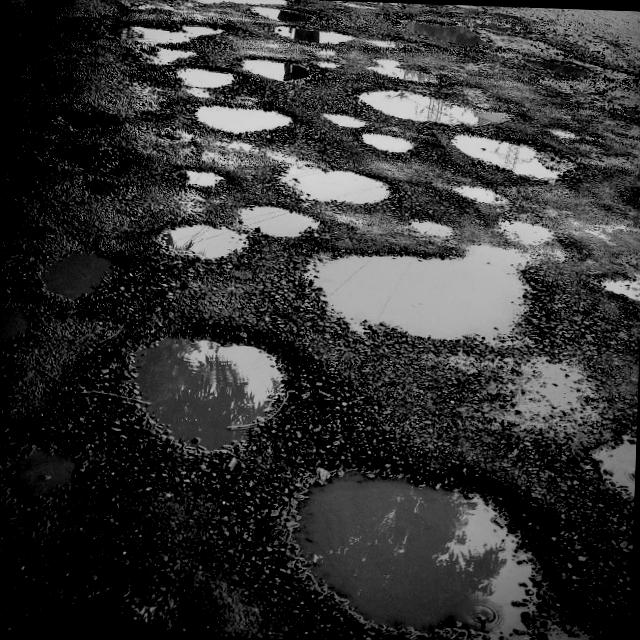Pothole: (260, 455, 617, 640), (293, 202, 566, 350), (16, 530, 252, 637), (95, 328, 292, 441), (132, 203, 318, 266), (260, 5, 494, 53), (242, 162, 404, 216), (348, 76, 508, 128), (304, 106, 438, 167), (0, 424, 95, 508), (120, 6, 228, 69), (437, 130, 578, 176), (27, 242, 122, 308), (182, 100, 302, 144), (578, 424, 636, 506), (209, 50, 318, 90), (0, 285, 41, 373), (169, 0, 295, 27), (603, 235, 640, 309), (174, 60, 238, 94), (165, 161, 232, 188)
